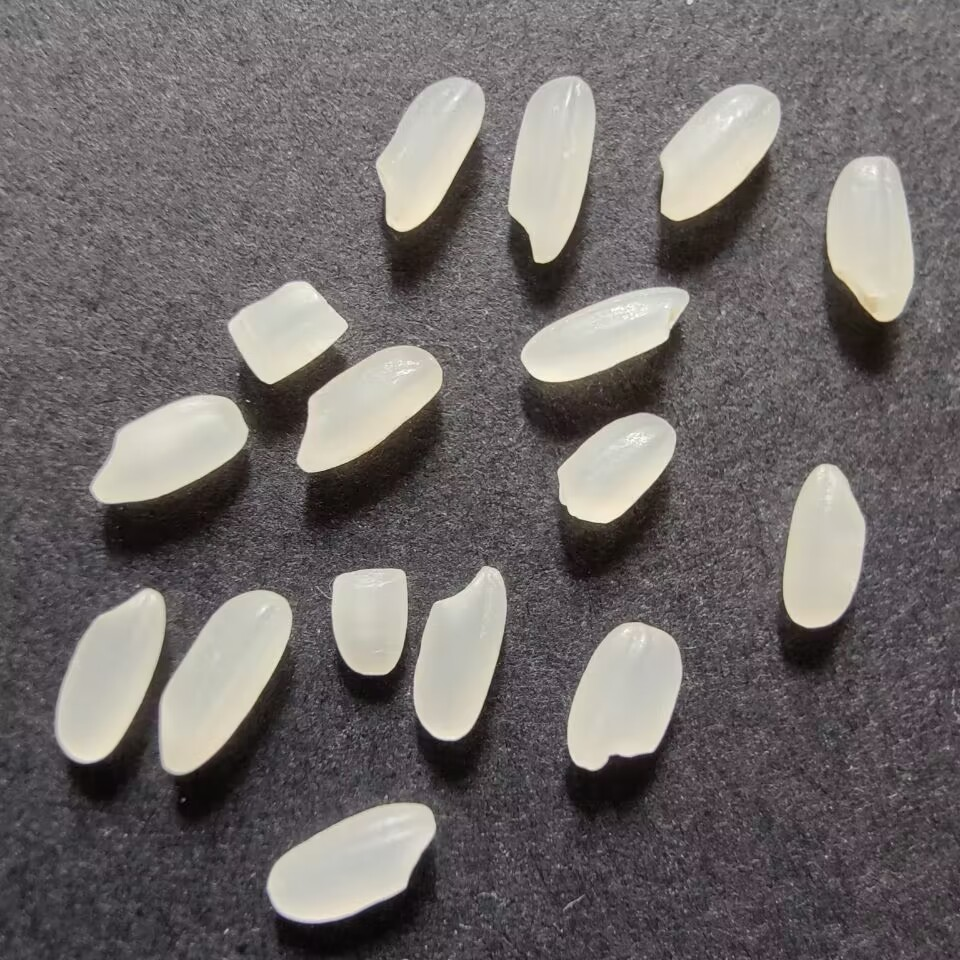broken: (551, 407, 678, 529), (222, 276, 350, 391), (329, 564, 413, 684)
rice: (152, 584, 294, 781), (261, 798, 441, 930), (50, 580, 168, 766), (292, 342, 449, 477), (564, 617, 692, 780), (650, 80, 787, 226), (408, 562, 517, 745), (89, 390, 251, 511), (370, 72, 489, 236), (503, 74, 602, 265), (518, 282, 694, 386), (820, 150, 917, 327), (775, 458, 871, 633)
